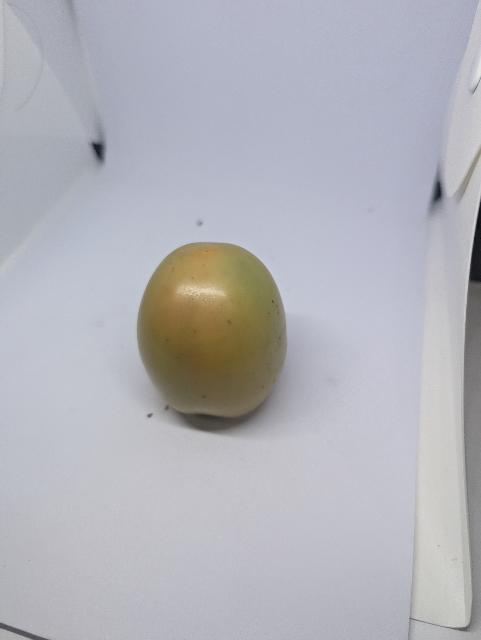breaker: (138, 243, 287, 417)
